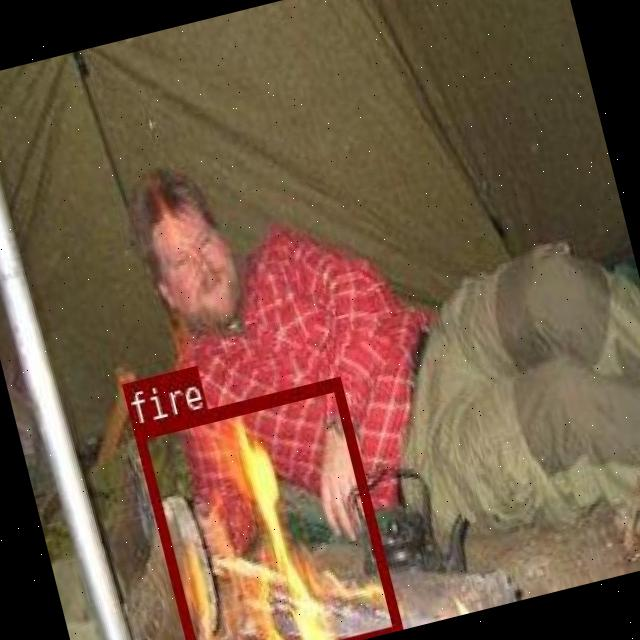fire: (131, 374, 399, 640)
